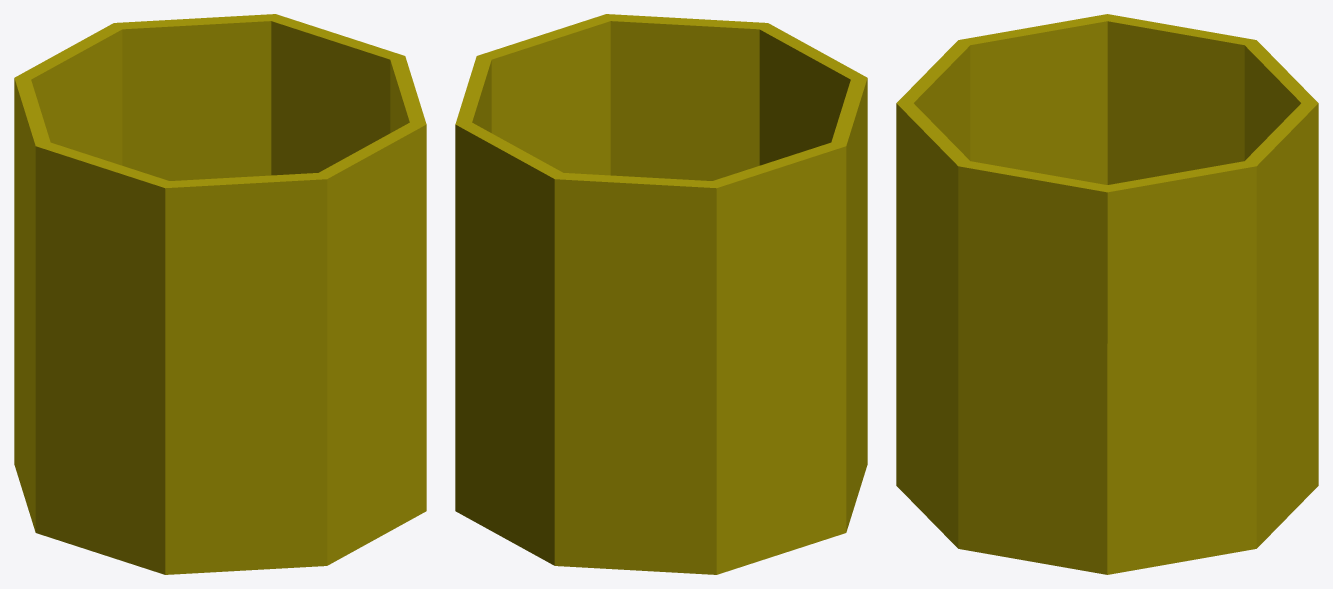
File: HollowStandardBullet.fbx
3 renders of one model, left to right at view 1: azimuth 30°, elevation 25°; view 2: azimuth 150°, elevation 25°; view 3: azimuth 270°, elevation 25°, orthographic.
Parts seen in each view (by area): view 1: HollowBullet; view 2: HollowBullet; view 3: HollowBullet.
Part boxes in pixels (bbox=[...]): HollowBullet: bbox=[14, 14, 426, 574]; HollowBullet: bbox=[455, 14, 867, 574]; HollowBullet: bbox=[896, 14, 1318, 574].
Size of the model in its own units: 200 by 200 by 200.
